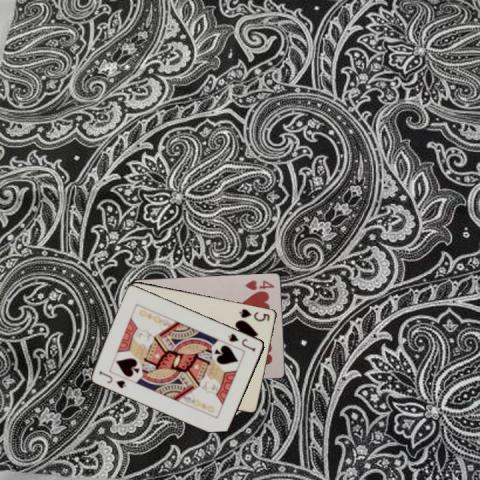4h: (242, 277, 276, 290)
5s: (236, 305, 271, 323)
Js: (226, 330, 258, 352), (96, 368, 128, 390)
